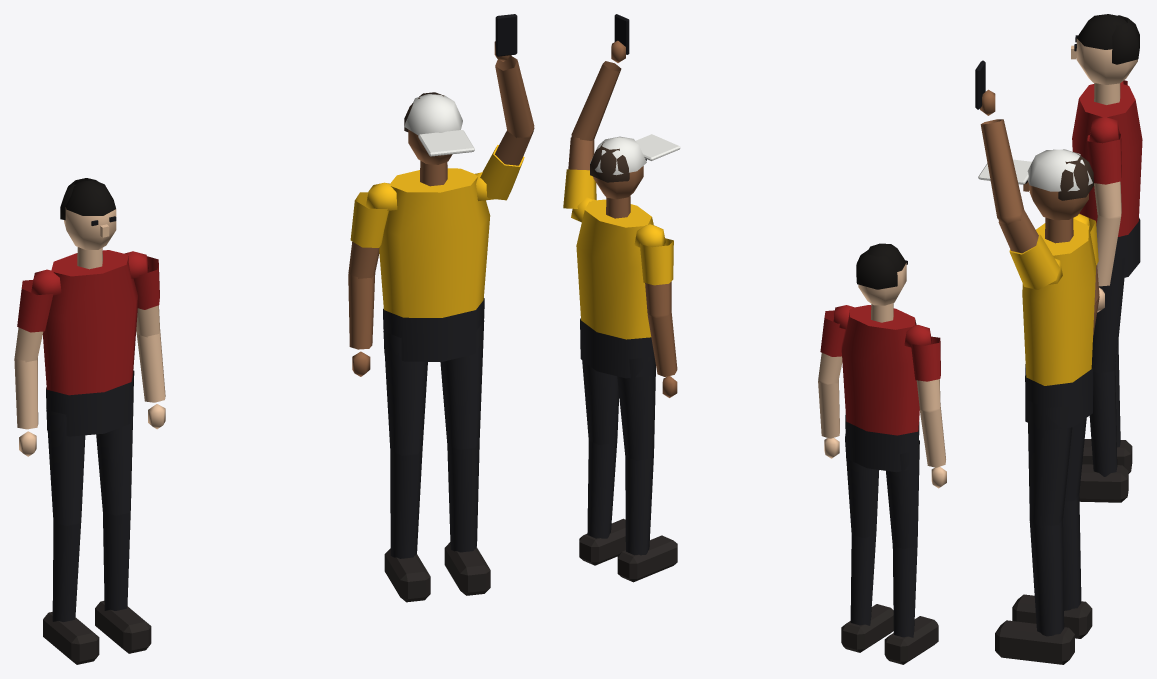
Rendered from crowd_a.dae.
3 views of the same model, side by side, from view 1: azimuth 30°, elevation 25°; view 2: azimuth 150°, elevation 25°; view 3: azimuth 270°, elevation 25° (orthographic). The views are drawn at different scales.
Parts seen in each view (by area): view 1: marker; view 2: marker; view 3: marker.
Part boxes in pixels (bbox=[...]): marker: bbox=[14, 14, 534, 664]; marker: bbox=[563, 14, 946, 664]; marker: bbox=[975, 14, 1142, 664].
Bounding box in the file's own units: 1.71 × 0.5157 × 2.04.
1 material, 1 textured.
